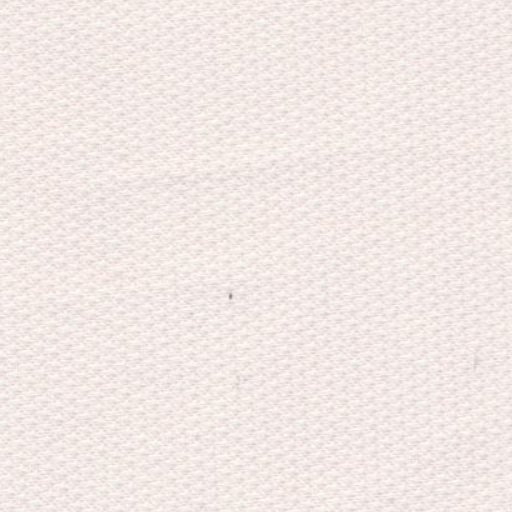WuZi: (212, 268, 254, 315)
